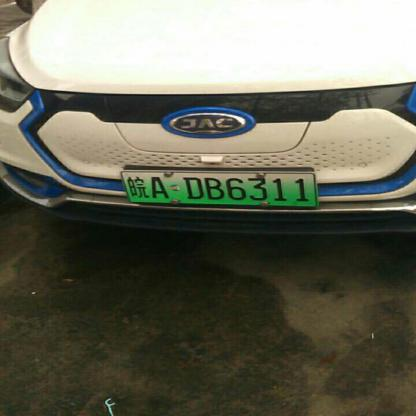lp: (120, 172, 318, 206)
